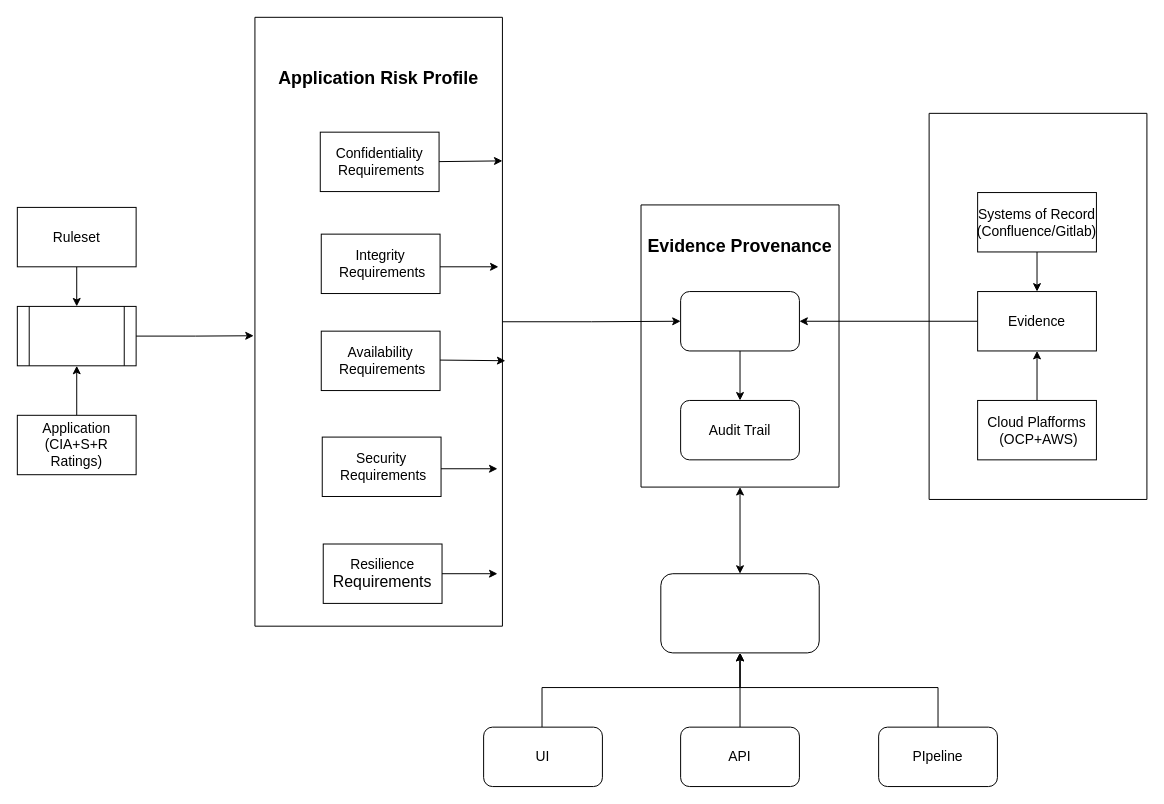
Some shapes in this 1164 by 804 pixel diagram are drawn without their labels. Here are the shapes that lost their labels. From the top down, the centre of each, then its label:
point 739,321: Control Claims
point 1037,305: Evidence Sources
point 76,335: Risk Profile Generator
point 739,613: Policy Driven Risk Assessment
